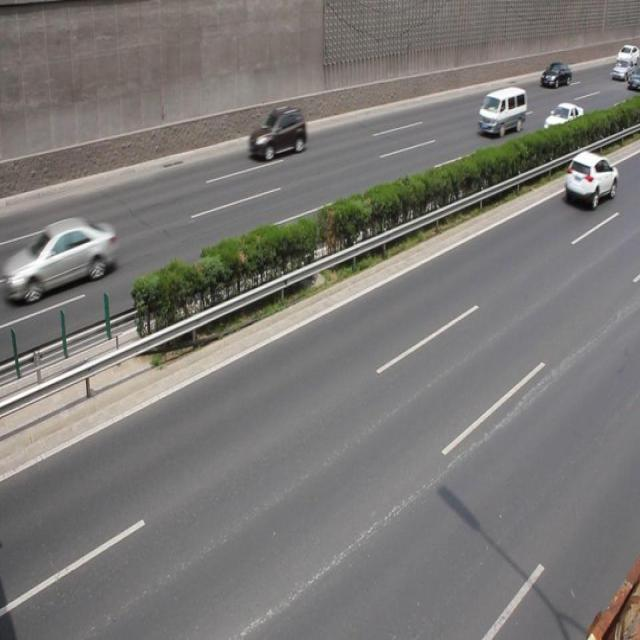car: (15, 216, 116, 303), (563, 149, 618, 210), (248, 108, 307, 163), (542, 101, 584, 142), (540, 62, 570, 90)
truck: (477, 85, 526, 139)
